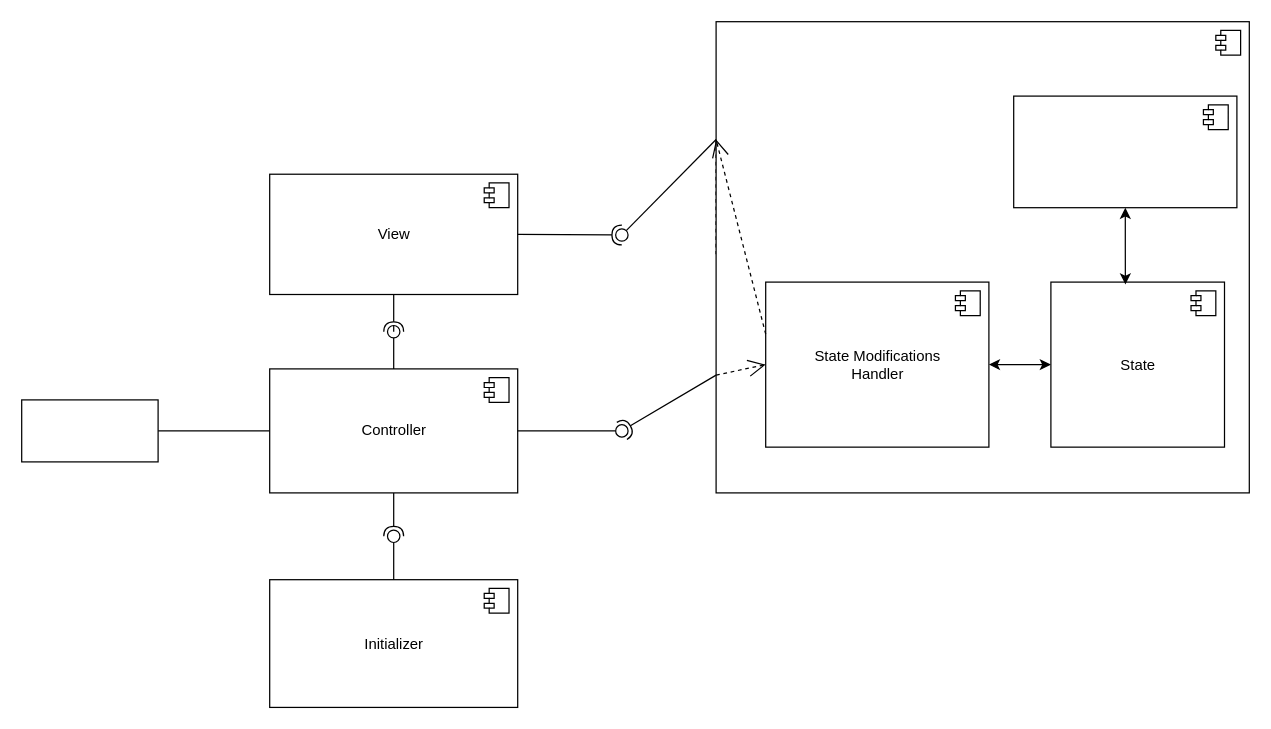
This 1271x729 diagram has some shape labels left out. The box of each missing label's shape, as (x1, y1, x2, y2) in pixels:
Engine: (1012, 95, 1237, 208)
Main component: (20, 399, 158, 462)
